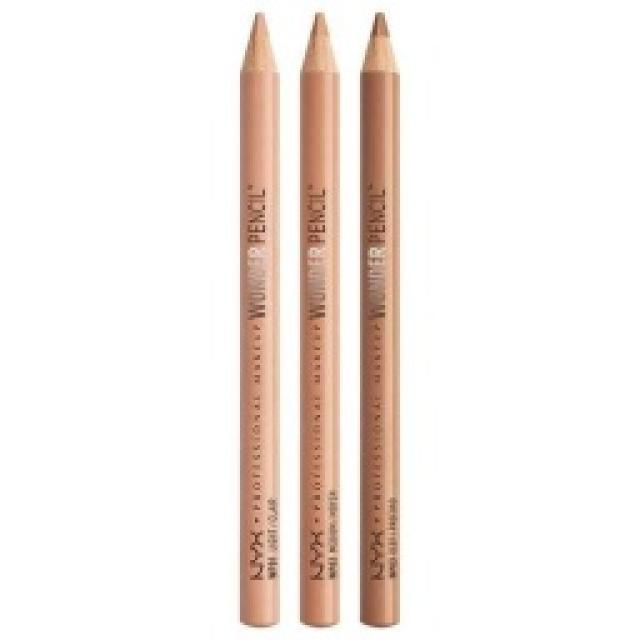pencil: (230, 5, 408, 630)
